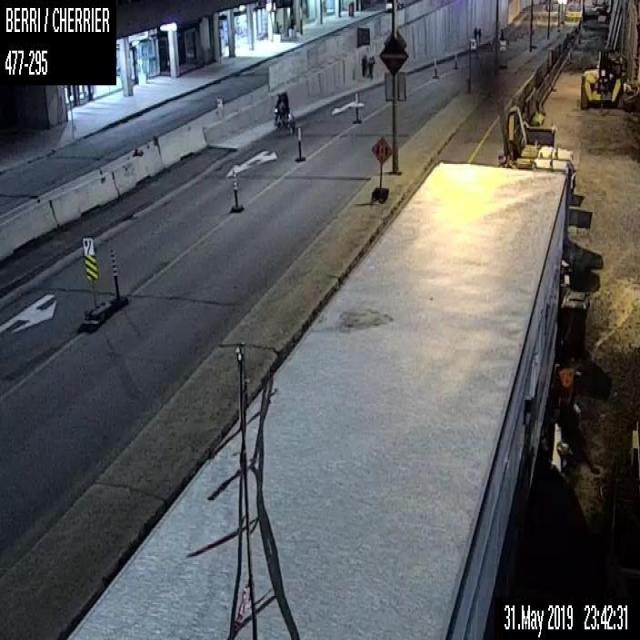construction: (370, 134, 392, 202), (109, 248, 125, 308), (228, 167, 243, 212), (294, 125, 306, 162), (353, 92, 360, 123), (433, 58, 437, 78), (454, 52, 457, 68)
cyclist: (274, 91, 294, 134)
pedestrian: (368, 55, 374, 77), (361, 53, 366, 76), (472, 26, 477, 42), (477, 27, 481, 42)
vehicle: (383, 0, 402, 9)
